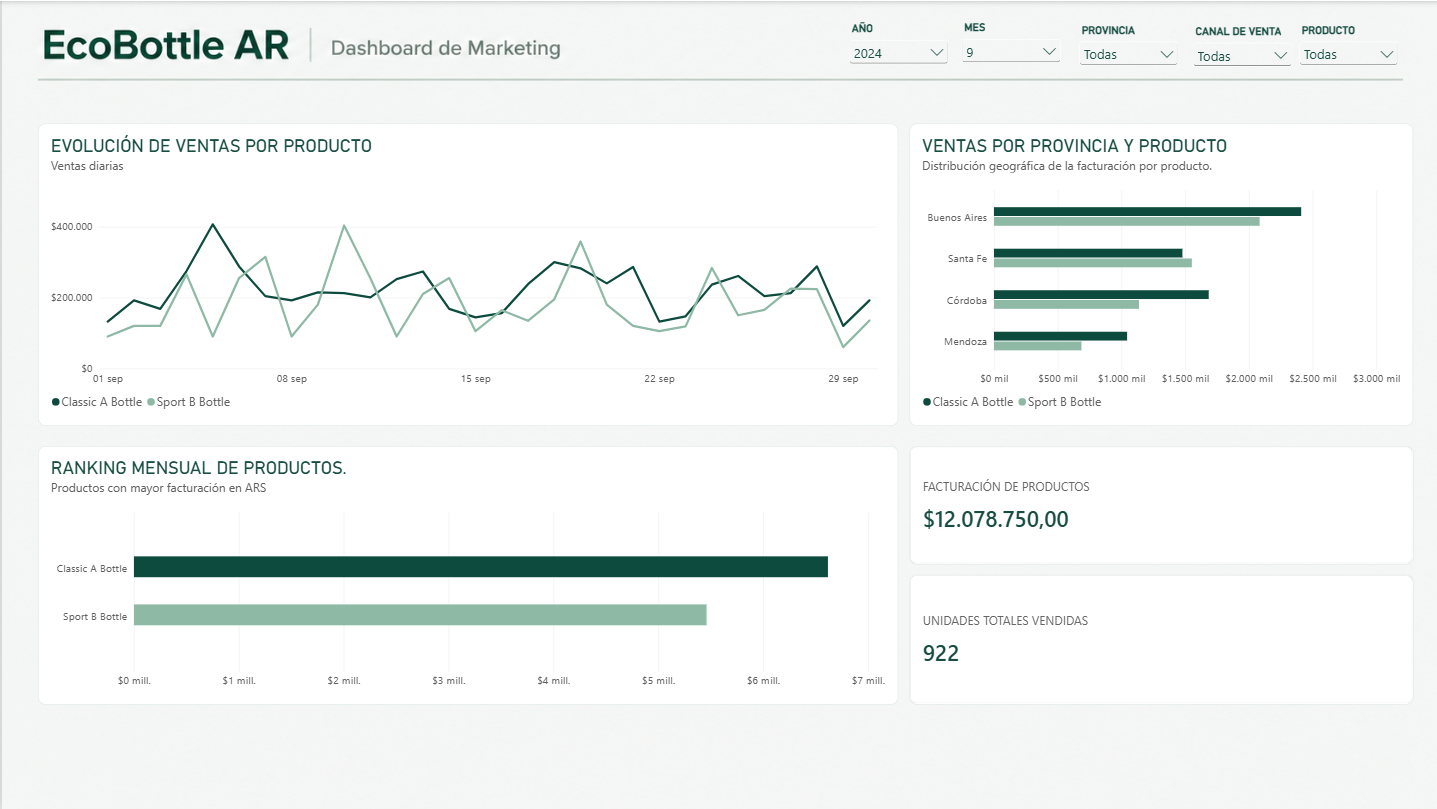

The page's visual inventory and layout, read from the dashboard file:
{"tool":"powerbi","page":{"name":"Análisis de productos","canvas":[1920,1080],"ordinal":1},"visuals":[{"type":"slicer","fields":{"Values":["dim_date.year"]},"box":[1127.1,28.4,141.4,62.9],"z":0},{"type":"slicer","fields":{"Values":["dim_date.month"]},"box":[1277.9,27,141.4,67.1],"z":1000},{"type":"slicer","fields":{"Values":["dim_channel_filter.channel_code"]},"box":[1586.3,31.1,141.4,62.9],"z":2000},{"type":"slicer","fields":{"Values":["dim_province_filter.province_name"]},"box":[1434.2,29.7,141.4,62.9],"z":3000},{"type":"slicer","fields":{"Values":["mart_products.product_name"]},"box":[1728.9,30.6,141.4,57.1],"z":4000},{"type":"barChart","title":"RANKING MENSUAL DE PRODUCTOS.","fields":{"Category":["mart_products.product_name"],"Y":["Sum(mart_products.product_sales)"]},"box":[48.6,594.3,1148.6,345.7],"z":5000},{"type":"clusteredBarChart","title":"VENTAS POR PROVINCIA Y PRODUCTO","fields":{"Category":["dim_province_filter.province_name"],"Series":["mart_products.product_name"],"Y":["Sum(mart_products.product_sales)"]},"box":[1211.4,164.3,672.9,404.3],"z":6000},{"type":"cardVisual","title":"Ventas totales","fields":{"Data":["Sum(mart_products.product_sales)"]},"box":[1211.7,595,673.3,158.3],"z":7000},{"type":"cardVisual","title":"Ventas totales","fields":{"Data":["Sum(mart_products.total_units)"]},"box":[1211.7,766.7,673.3,173.3],"z":8000},{"type":"lineChart","title":"EVOLUCIÓN DE VENTAS POR PRODUCTO","fields":{"Category":["dim_date.full_date"],"Series":["mart_products.product_name"],"Y":["Sum(mart_products.product_sales)"]},"box":[48.6,164.3,1148.6,404.3],"z":9000}]}

Visuals, with their boxes in screenshot pixels (x1, y1, x2, y2), scaled from the page's 1920x1080 canvas onto the 1437x809 screenshot:
slicer - dim_date.year: pyautogui.locateOnScreen(844, 21, 949, 68)
slicer - dim_date.month: pyautogui.locateOnScreen(956, 20, 1062, 70)
slicer - dim_channel_filter.channel_code: pyautogui.locateOnScreen(1187, 23, 1293, 70)
slicer - dim_province_filter.province_name: pyautogui.locateOnScreen(1073, 22, 1179, 69)
slicer - mart_products.product_name: pyautogui.locateOnScreen(1294, 23, 1400, 66)
"RANKING MENSUAL DE PRODUCTOS." barChart: pyautogui.locateOnScreen(36, 445, 896, 704)
"VENTAS POR PROVINCIA Y PRODUCTO" clusteredBarChart: pyautogui.locateOnScreen(907, 123, 1410, 426)
"Ventas totales" cardVisual: pyautogui.locateOnScreen(907, 446, 1411, 564)
"Ventas totales" cardVisual: pyautogui.locateOnScreen(907, 574, 1411, 704)
"EVOLUCIÓN DE VENTAS POR PRODUCTO" lineChart: pyautogui.locateOnScreen(36, 123, 896, 426)
